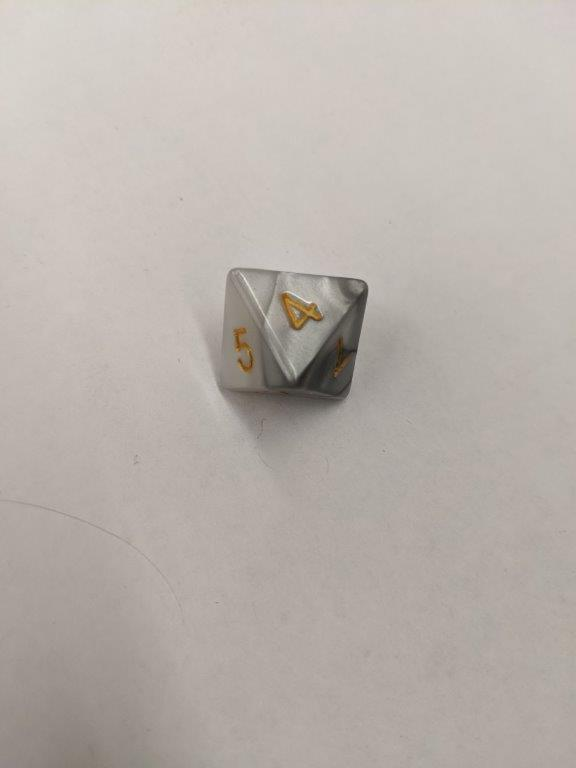d8-4: (220, 265, 371, 403)
